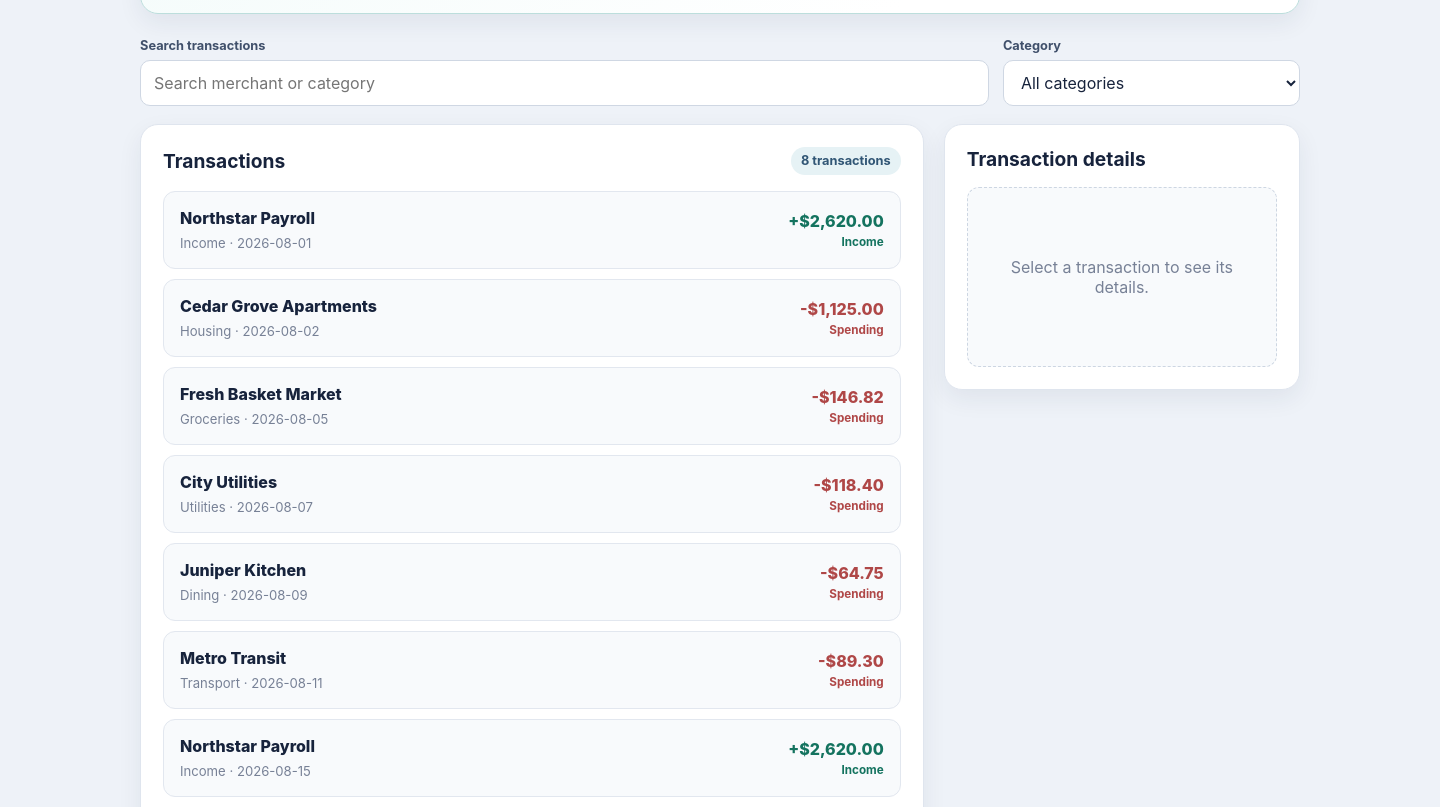
Test: Day 5 application › preserves filtering, visible counts, selection, and hidden-detail behavior
The width and height of the screenshot is (1440, 807).
(page scrolled)
Expected: the text "8 transactions" is shown, [791, 147, 901, 175]
Click the button "Fresh Basket Market Groceries · 2026-08-05 -$146.82 spending" at x=261, y=394, box [163, 367, 901, 445]
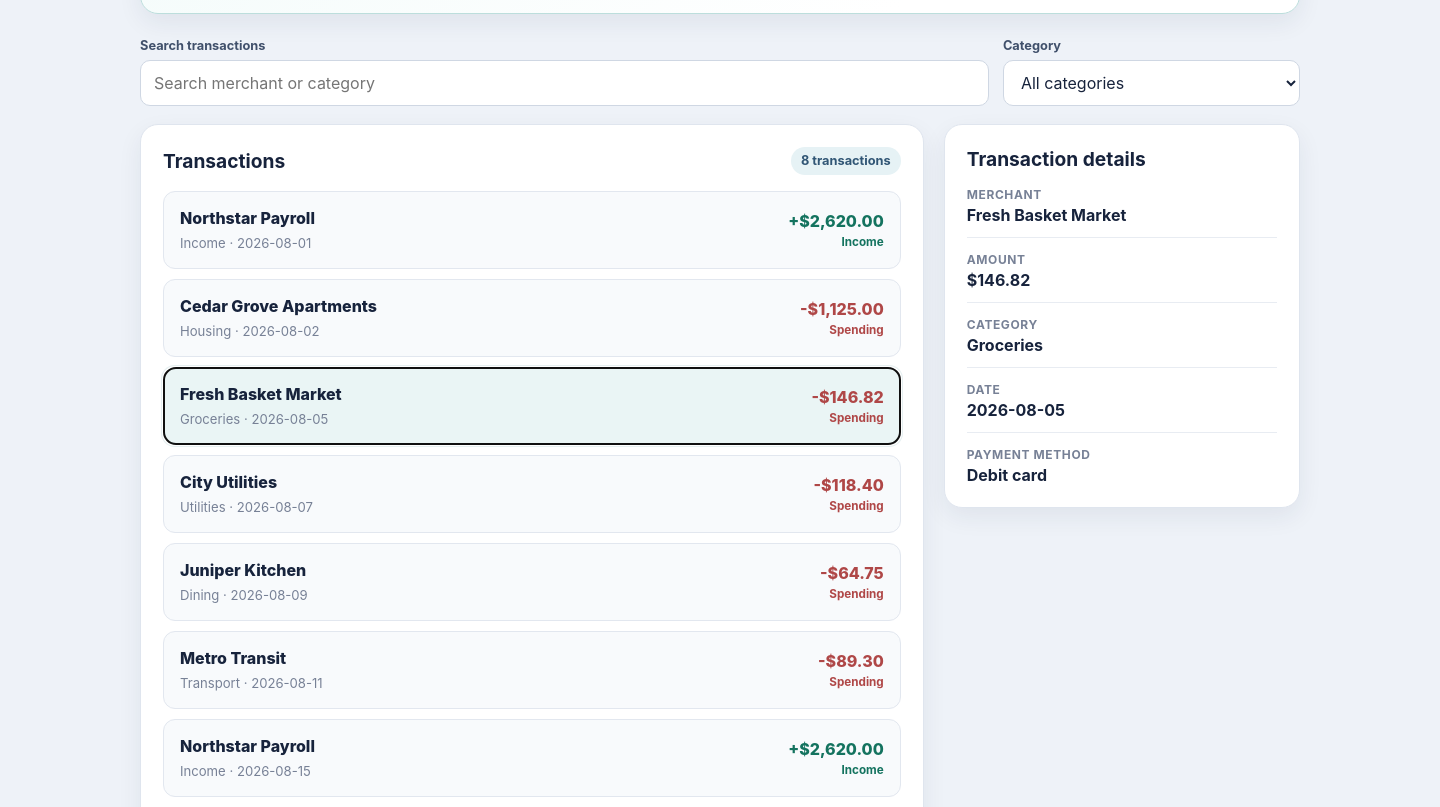
Expected: the text "Fresh Basket Market" below "Merchant" is shown, [967, 205, 1126, 225]
Select "Utilities" in the dropdown labelled "Category" at x=1151, y=83, box [1003, 60, 1300, 106]
(page scrolled)
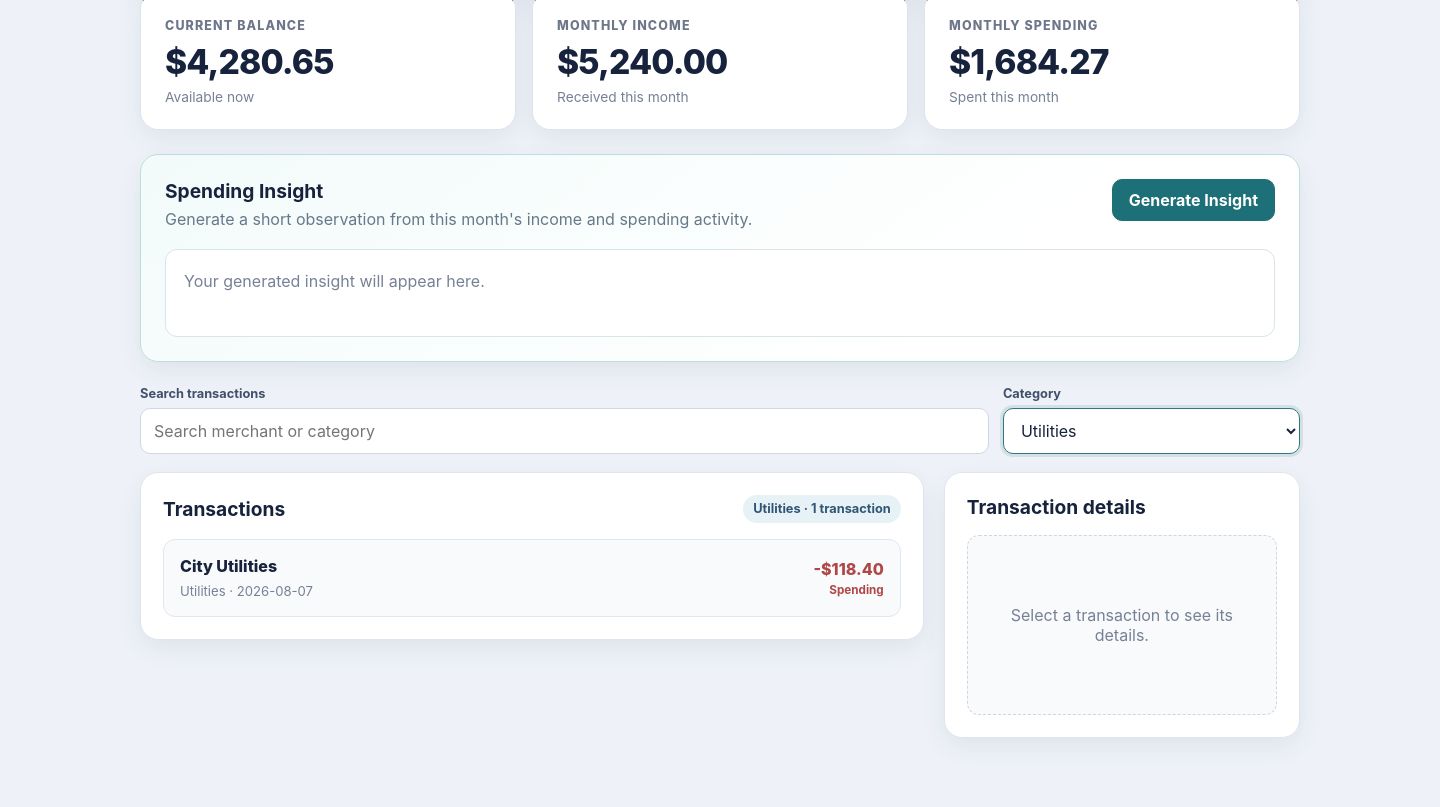
Expected: the text "Utilities · 1 transaction" is shown, [743, 495, 901, 523]
Expected: the button "Fresh Basket Market" is gone
Expected: the text "Select a transaction to see its details." is shown, [967, 535, 1277, 715]
Type "metro" into the search field labelled "Search transactions" at x=564, y=431, box [140, 408, 989, 454]
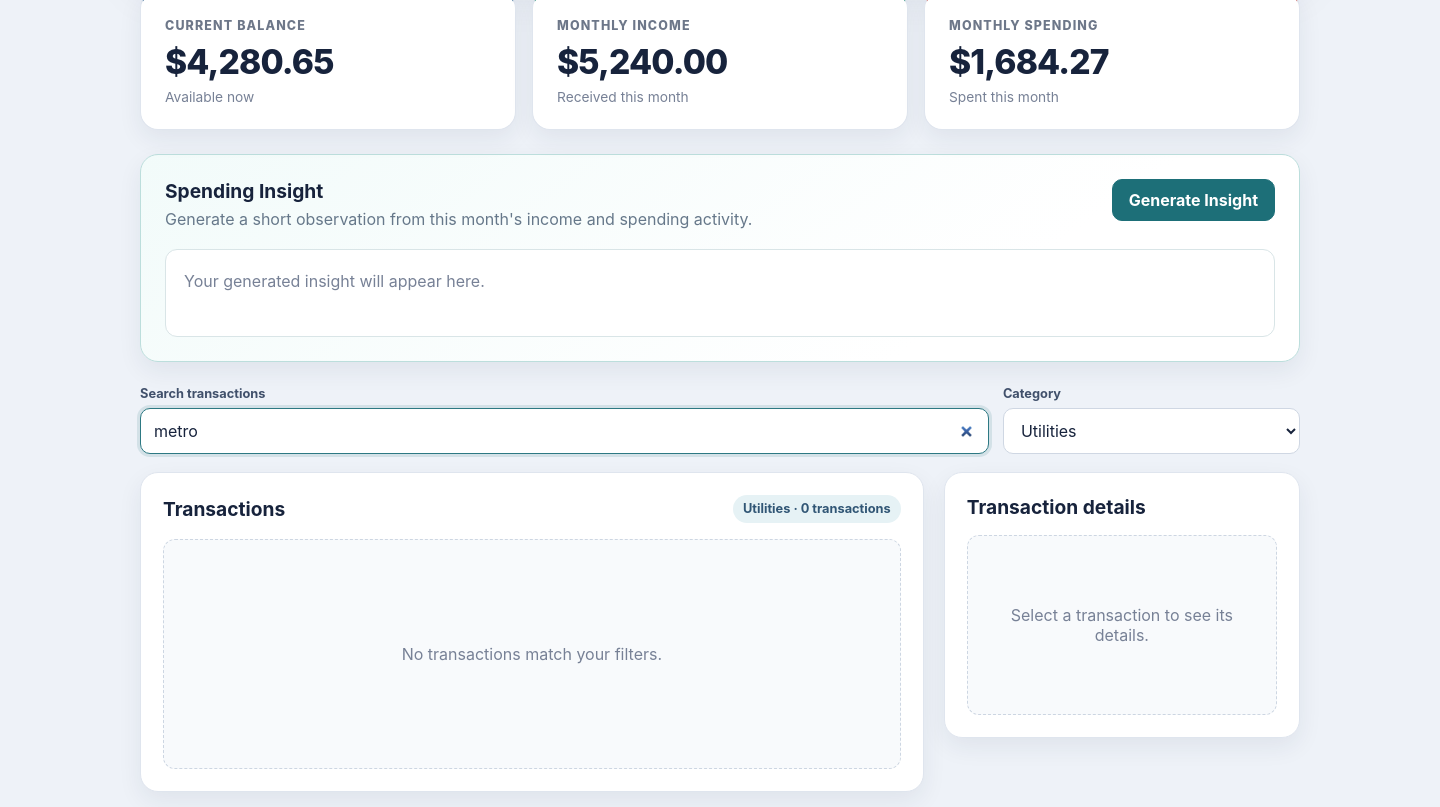
Expected: the text "No transactions match your filters." is shown, [163, 539, 901, 769]
